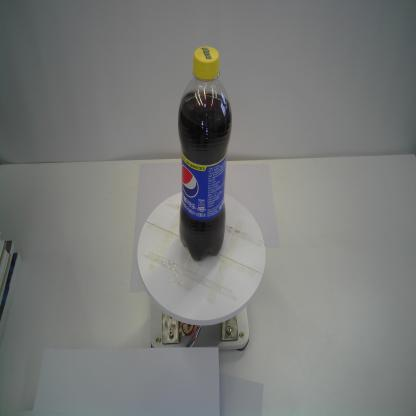Drink: (176, 43, 233, 264)
